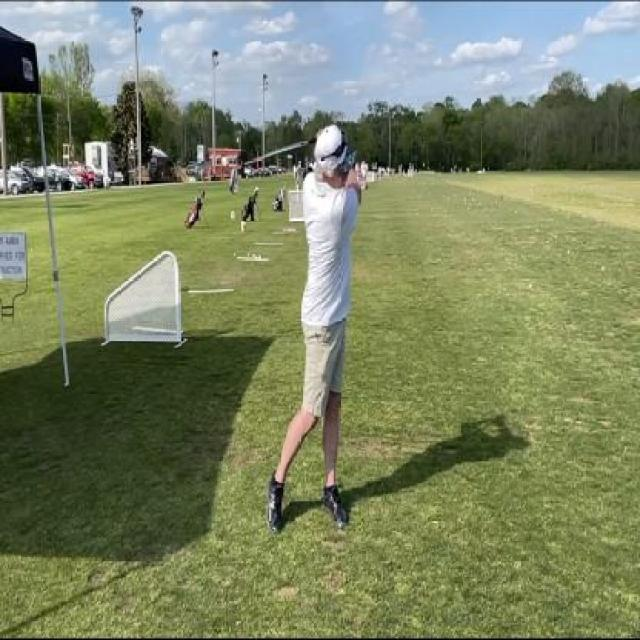club head: (229, 162, 242, 195)
